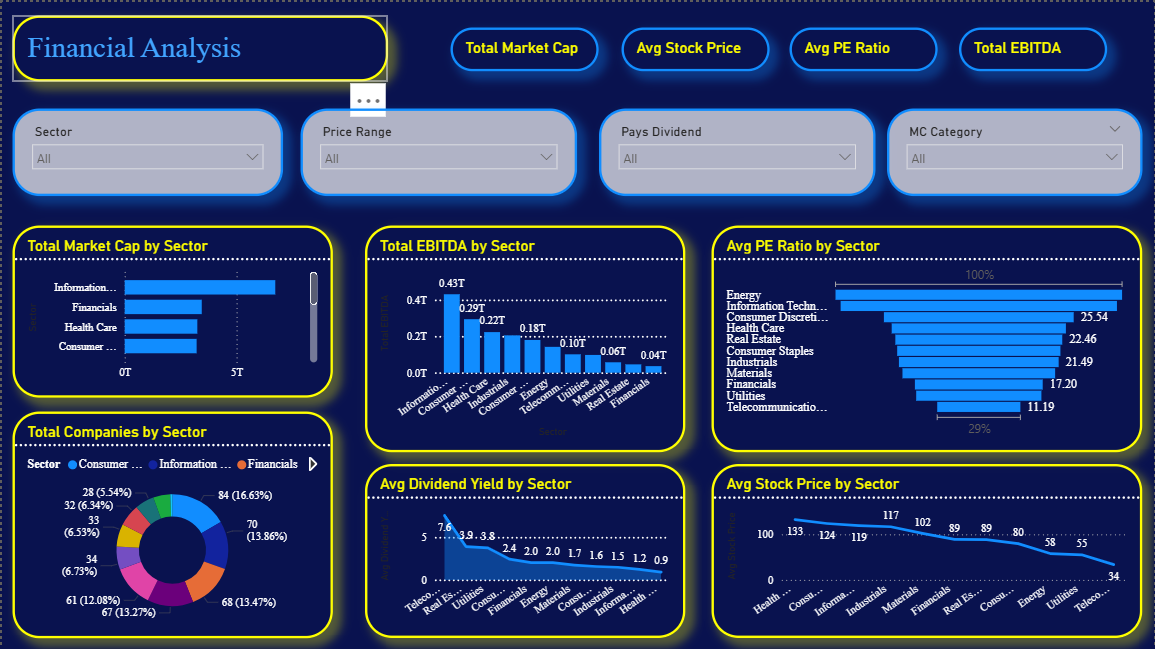

This screenshot's page, from the dashboard's own definition file:
{"tool":"powerbi","page":{"name":"Page 1","canvas":[1280,720],"ordinal":0},"visuals":[{"type":"textbox","box":[10.9,15.6,417.6,73.5],"z":0},{"type":"slicer","fields":{"Values":["financials.Sector"]},"box":[11.8,117.5,300.6,97.4],"z":1000},{"type":"slicer","fields":{"Values":["financials.Pays Dividend"]},"box":[663.2,117.5,307.3,97.4],"z":2000},{"type":"slicer","fields":{"Values":["financials.Price Range"]},"box":[332.5,117.5,307.3,97.4],"z":3000},{"type":"slicer","fields":{"Values":["financials.MC Category"]},"box":[983.9,117.5,283.8,97.4],"z":4000},{"type":"kpi","fields":{"Indicator":["financials.Total Market Cap"]},"box":[498.7,28.5,164.5,48.7],"z":5000},{"type":"kpi","fields":{"Indicator":["financials.Avg Stock Price"]},"box":[688.4,28.5,164.5,48.7],"z":6000},{"type":"kpi","fields":{"Indicator":["financials.Avg PE Ratio"]},"box":[874.8,28.5,164.5,48.7],"z":7000},{"type":"kpi","fields":{"Indicator":["financials.Total EBITDA"]},"box":[1062.8,28.5,164.5,48.7],"z":8000},{"type":"clusteredBarChart","fields":{"Category":["financials.Sector"],"Y":["financials.Total Market Cap"]},"box":[11.8,248.5,356,191.4],"z":9000},{"type":"donutChart","fields":{"Category":["financials.Sector"],"Y":["financials.Total Companies"]},"box":[11.8,455,356,251.9],"z":10000},{"type":"clusteredColumnChart","fields":{"Category":["financials.Sector"],"Y":["financials.Total EBITDA"]},"box":[403,248.5,356,251.9],"z":11000},{"type":"areaChart","fields":{"Category":["financials.Sector"],"Y":["financials.Avg Dividend Yield"]},"box":[403,513.8,356,193.1],"z":12000},{"type":"funnel","fields":{"Category":["financials.Sector"],"Y":["financials.Avg PE Ratio"]},"box":[789.2,248.5,478.5,251.9],"z":13000},{"type":"lineChart","fields":{"Category":["financials.Sector"],"Y":["financials.Avg Stock Price"]},"box":[789.2,513.8,478.5,193.1],"z":14000}]}

Visuals, with their boxes in screenshot pixels (x1, y1, x2, y2), scaled from the page's 1280x720 canvas onto the 1155x649 screenshot:
textbox: (x1=10, y1=14, x2=387, y2=80)
slicer - financials.Sector: (x1=11, y1=106, x2=282, y2=194)
slicer - financials.Pays Dividend: (x1=598, y1=106, x2=876, y2=194)
slicer - financials.Price Range: (x1=300, y1=106, x2=577, y2=194)
slicer - financials.MC Category: (x1=888, y1=106, x2=1144, y2=194)
kpi - financials.Total Market Cap: (x1=450, y1=26, x2=598, y2=70)
kpi - financials.Avg Stock Price: (x1=621, y1=26, x2=770, y2=70)
kpi - financials.Avg PE Ratio: (x1=789, y1=26, x2=938, y2=70)
kpi - financials.Total EBITDA: (x1=959, y1=26, x2=1107, y2=70)
clusteredBarChart - financials.Sector x financials.Total Market Cap: (x1=11, y1=224, x2=332, y2=397)
donutChart - financials.Sector x financials.Total Companies: (x1=11, y1=410, x2=332, y2=637)
clusteredColumnChart - financials.Sector x financials.Total EBITDA: (x1=364, y1=224, x2=685, y2=451)
areaChart - financials.Sector x financials.Avg Dividend Yield: (x1=364, y1=463, x2=685, y2=637)
funnel - financials.Sector x financials.Avg PE Ratio: (x1=712, y1=224, x2=1144, y2=451)
lineChart - financials.Sector x financials.Avg Stock Price: (x1=712, y1=463, x2=1144, y2=637)
